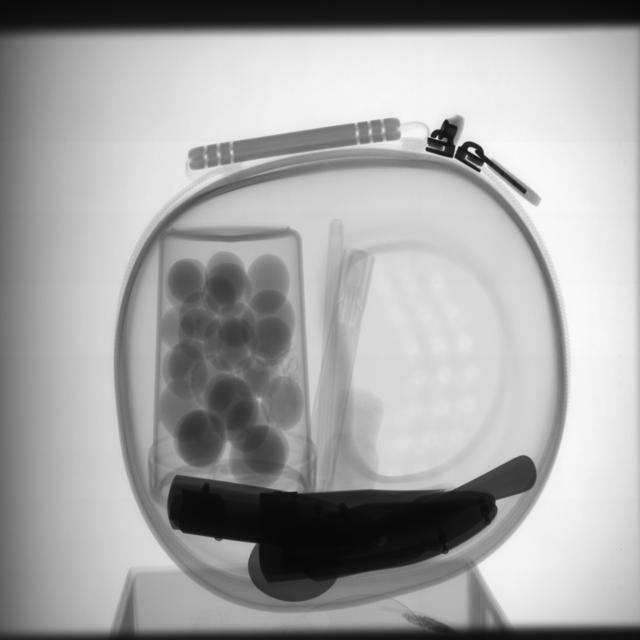knife: (172, 466, 508, 586)
